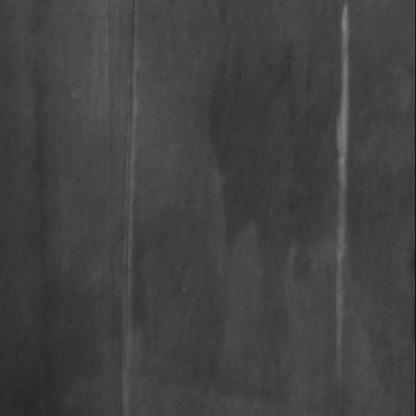scratches: (324, 2, 354, 372)
